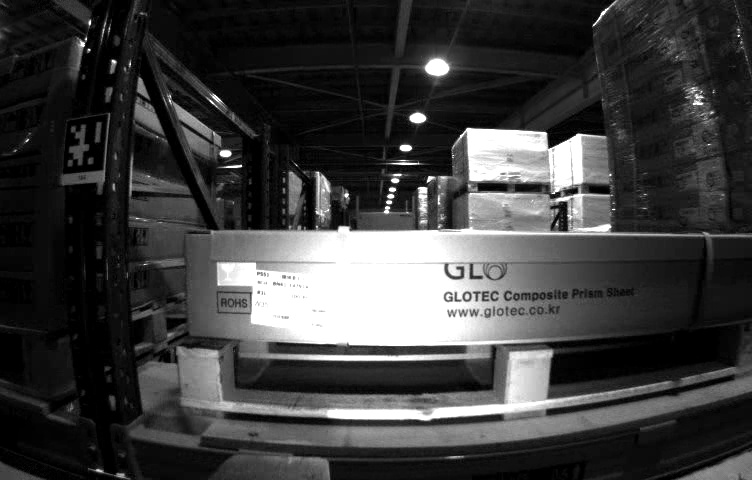True Barcode: (249, 270, 315, 335)
